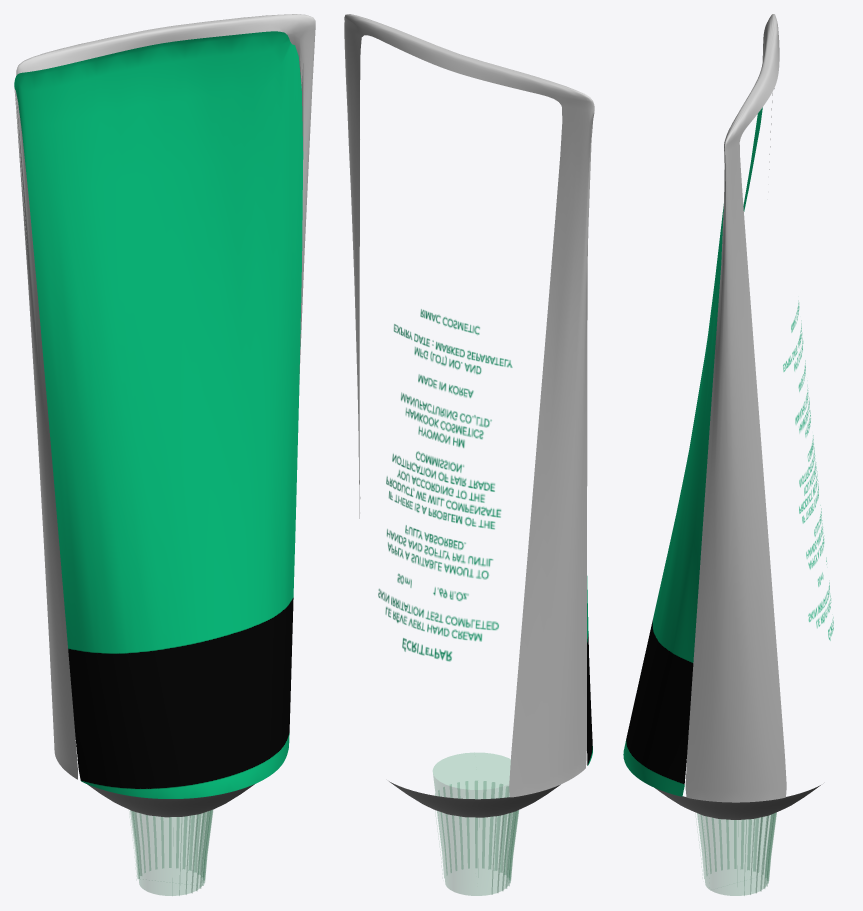
The model's file is hand_cream.glb.
3 views of the same model, side by side, from view 1: azimuth 30°, elevation 25°; view 2: azimuth 150°, elevation 25°; view 3: azimuth 270°, elevation 25° (orthographic). The views are drawn at different scales.
Parts seen in each view (by area): view 1: Cylinder-Mat.4, Cylinder-Mat, Cylinder, Cylinder-Mat.2; view 2: Cylinder-Mat, Cylinder-Mat.3, Cylinder, Cylinder-Mat.2, Cylinder-Mat.4; view 3: Cylinder-Mat, Cylinder-Mat.4, Cylinder, Cylinder-Mat.3, Cylinder-Mat.2.
Part boxes in pixels (x1=…): Cylinder-Mat.4: x1=14, y1=31, x2=303, y2=798; Cylinder-Mat: x1=14, y1=14, x2=315, y2=779; Cylinder: x1=130, y1=810, x2=212, y2=895; Cylinder-Mat.2: x1=87, y1=784, x2=254, y2=817; Cylinder-Mat: x1=344, y1=14, x2=594, y2=797; Cylinder-Mat.3: x1=378, y1=309, x2=512, y2=661; Cylinder: x1=433, y1=752, x2=518, y2=895; Cylinder-Mat.2: x1=389, y1=781, x2=560, y2=817; Cylinder-Mat.4: x1=587, y1=576, x2=592, y2=765; Cylinder-Mat: x1=685, y1=14, x2=786, y2=802; Cylinder-Mat.4: x1=623, y1=107, x2=762, y2=796; Cylinder: x1=697, y1=812, x2=776, y2=895; Cylinder-Mat.3: x1=783, y1=303, x2=833, y2=640; Cylinder-Mat.2: x1=655, y1=785, x2=820, y2=819.
Size of the model in its own units: 83.96 by 245 by 61.43.
Materials: 5 (2 with a texture image).
